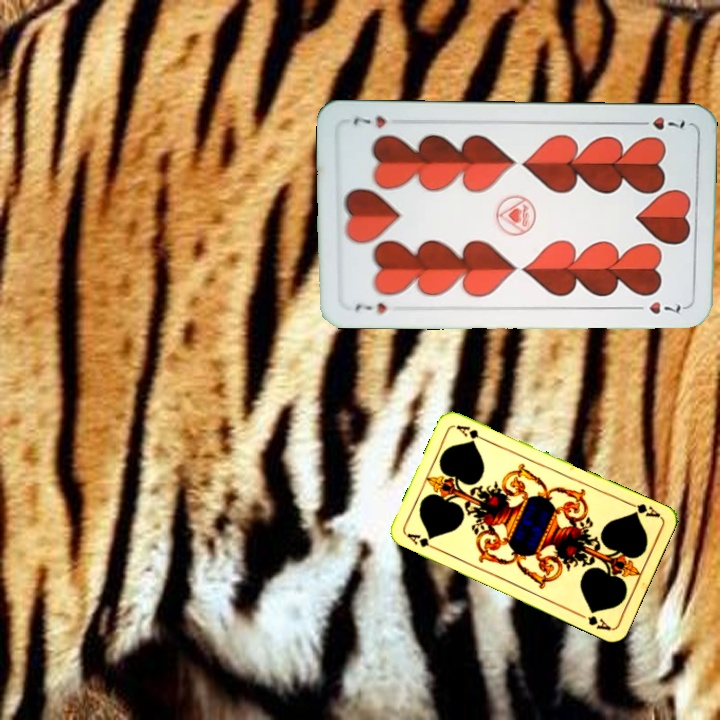GA: (403, 529, 441, 553), (624, 498, 663, 520)
H7: (632, 112, 688, 132), (350, 299, 389, 317)
